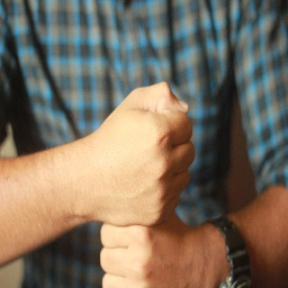G: (82, 78, 205, 288)
